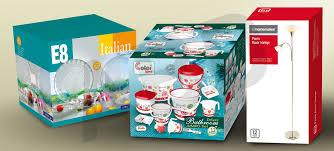Cardboard: (6, 4, 334, 149)
